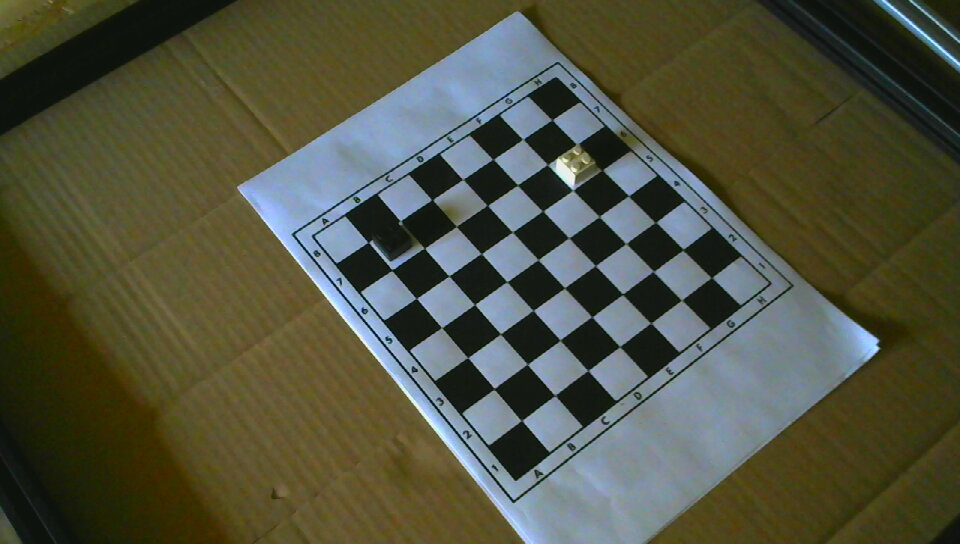bp: (371, 221, 412, 261)
wp: (554, 144, 597, 187)
